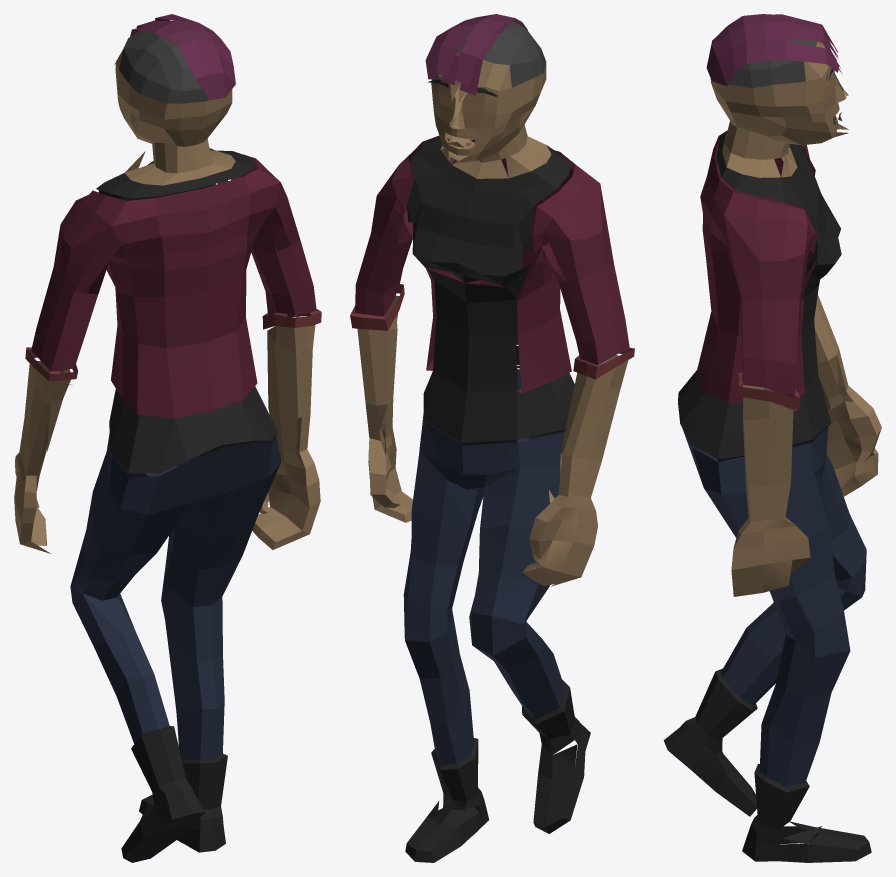
Rendered from person_8_w0.fbx.
3 renders of one model, left to right at view 1: azimuth 30°, elevation 25°; view 2: azimuth 150°, elevation 25°; view 3: azimuth 270°, elevation 25°, orthographic.
Parts seen in each view (by area): view 1: Female; view 2: Female; view 3: Female.
Part boxes in pixels (x1,y1,x2,y2): Female: (14,14,321,862); Female: (350,14,634,862); Female: (663,14,881,862).
Size of the model in its own units: 0.3421 by 1 by 0.2412.
